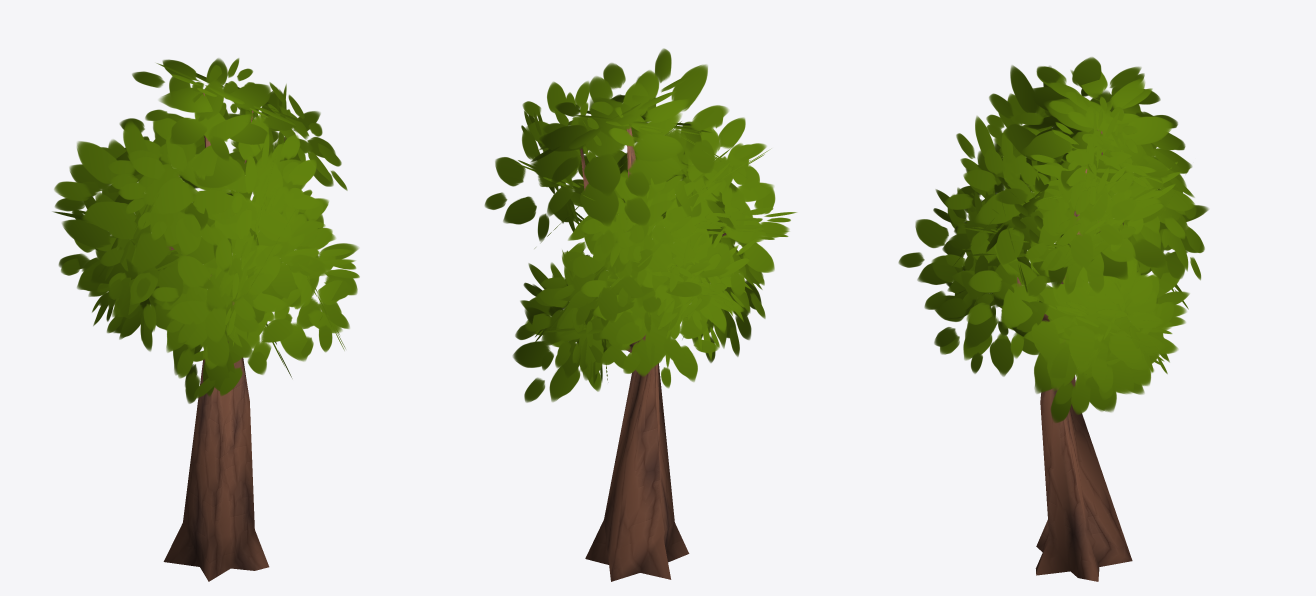
Rendered from broad-3-far.glb.
3 views of the same model, side by side, from view 1: azimuth 30°, elevation 25°; view 2: azimuth 150°, elevation 25°; view 3: azimuth 270°, elevation 25° (orthographic). The views are drawn at different scales.
Visible parts, largest first — view 1: CommonTree_1; view 2: CommonTree_1; view 3: CommonTree_1.
Boxes of the visible parts, x1=… form: CommonTree_1: x1=52, y1=58, x2=359, y2=581; CommonTree_1: x1=484, y1=48, x2=796, y2=581; CommonTree_1: x1=898, y1=57, x2=1208, y2=581.
Size of the model in its own units: 5.14 by 7.54 by 5.98.
2 materials, 2 textured.
